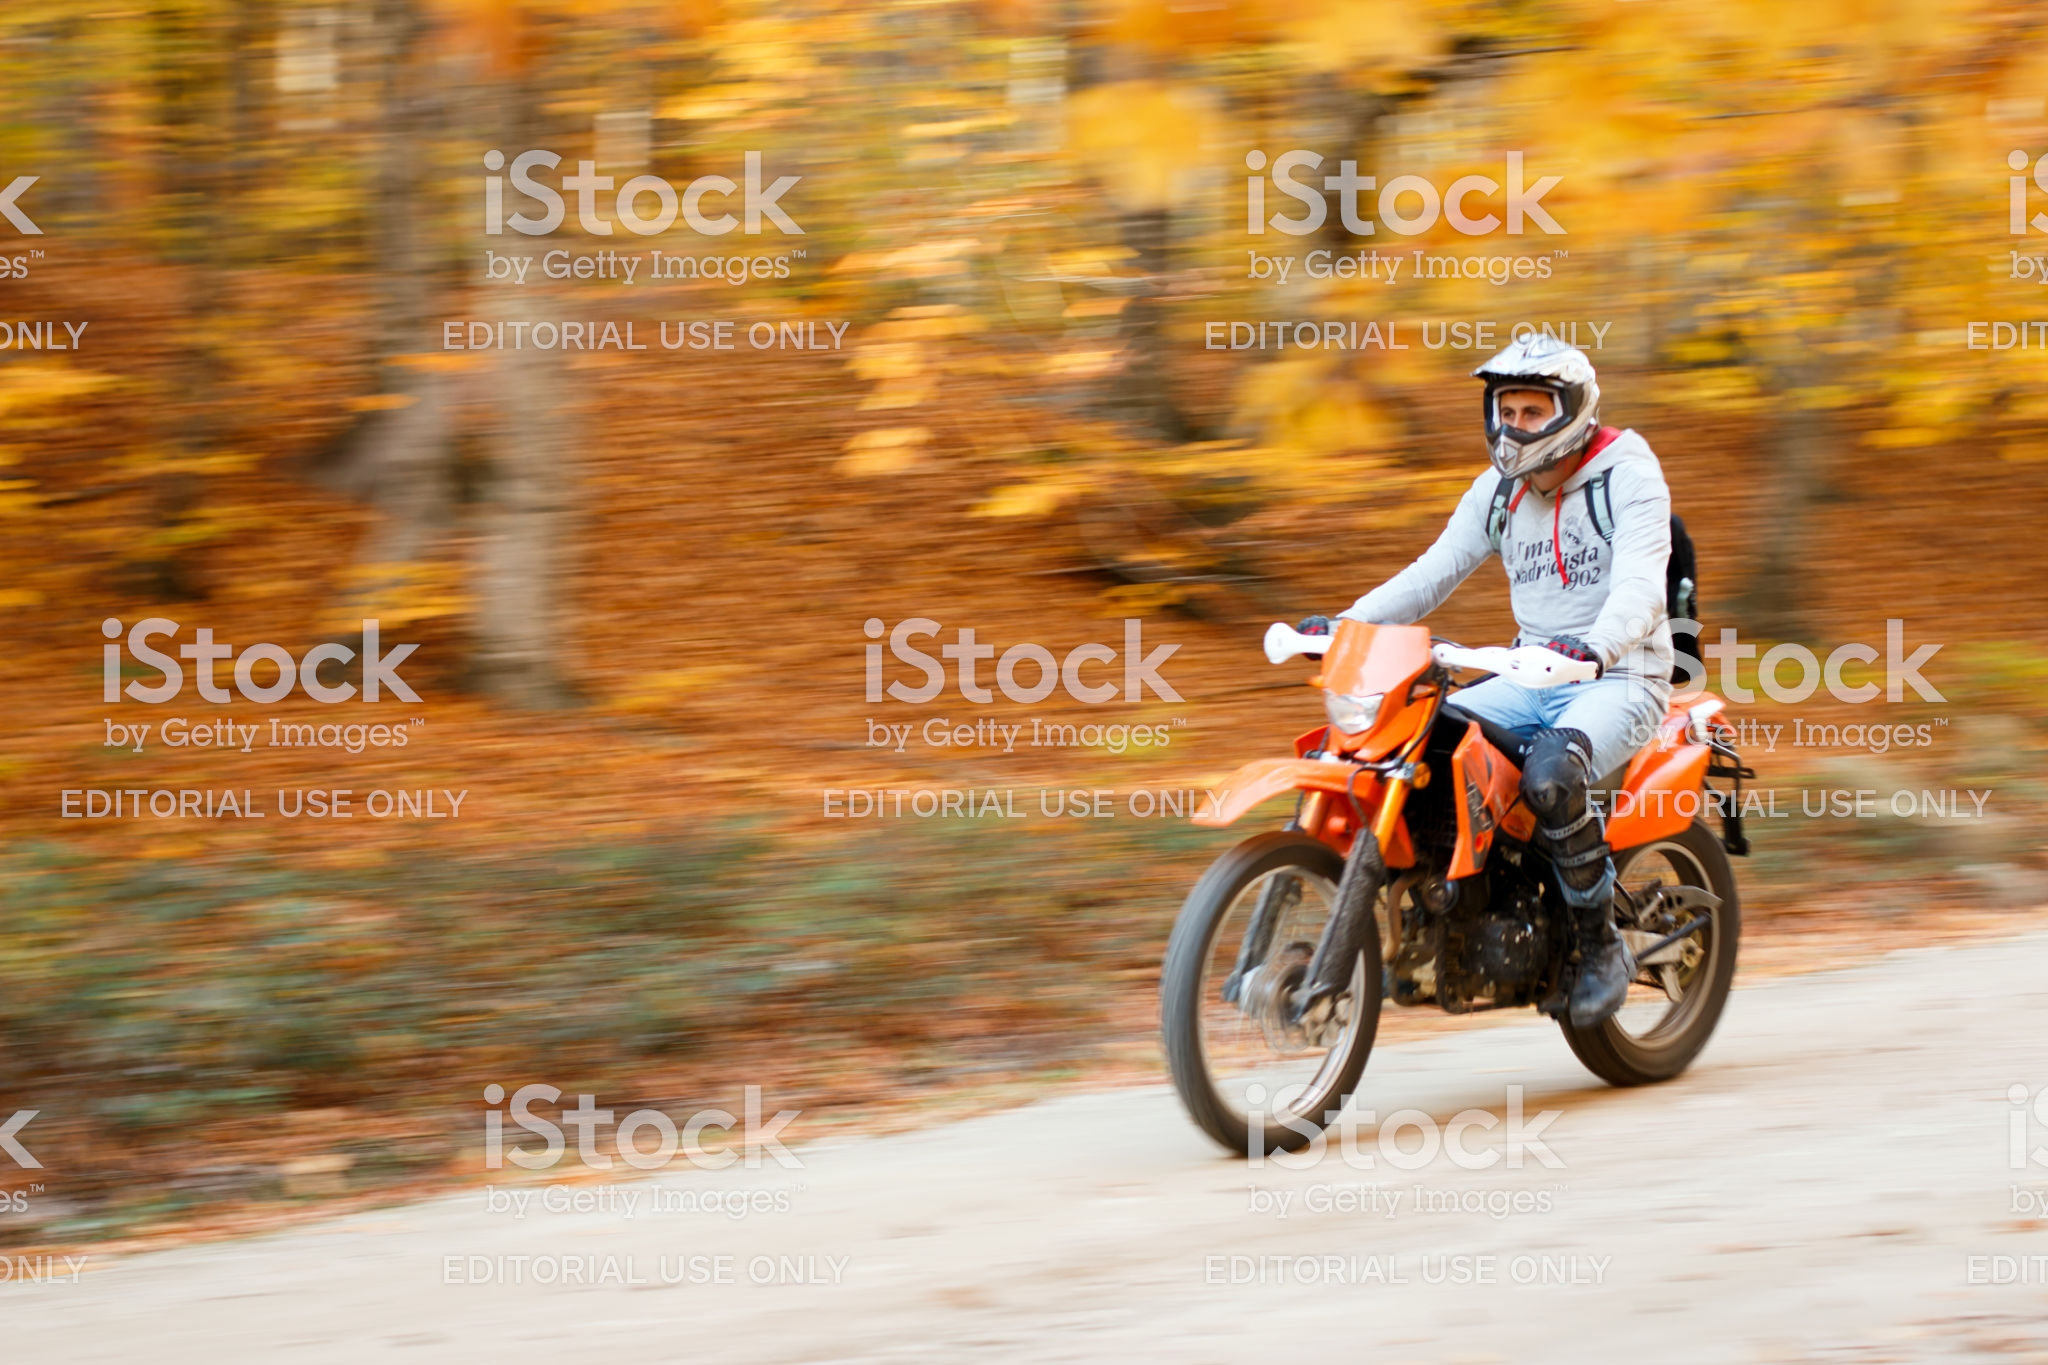helmet: (1472, 329, 1609, 468)
